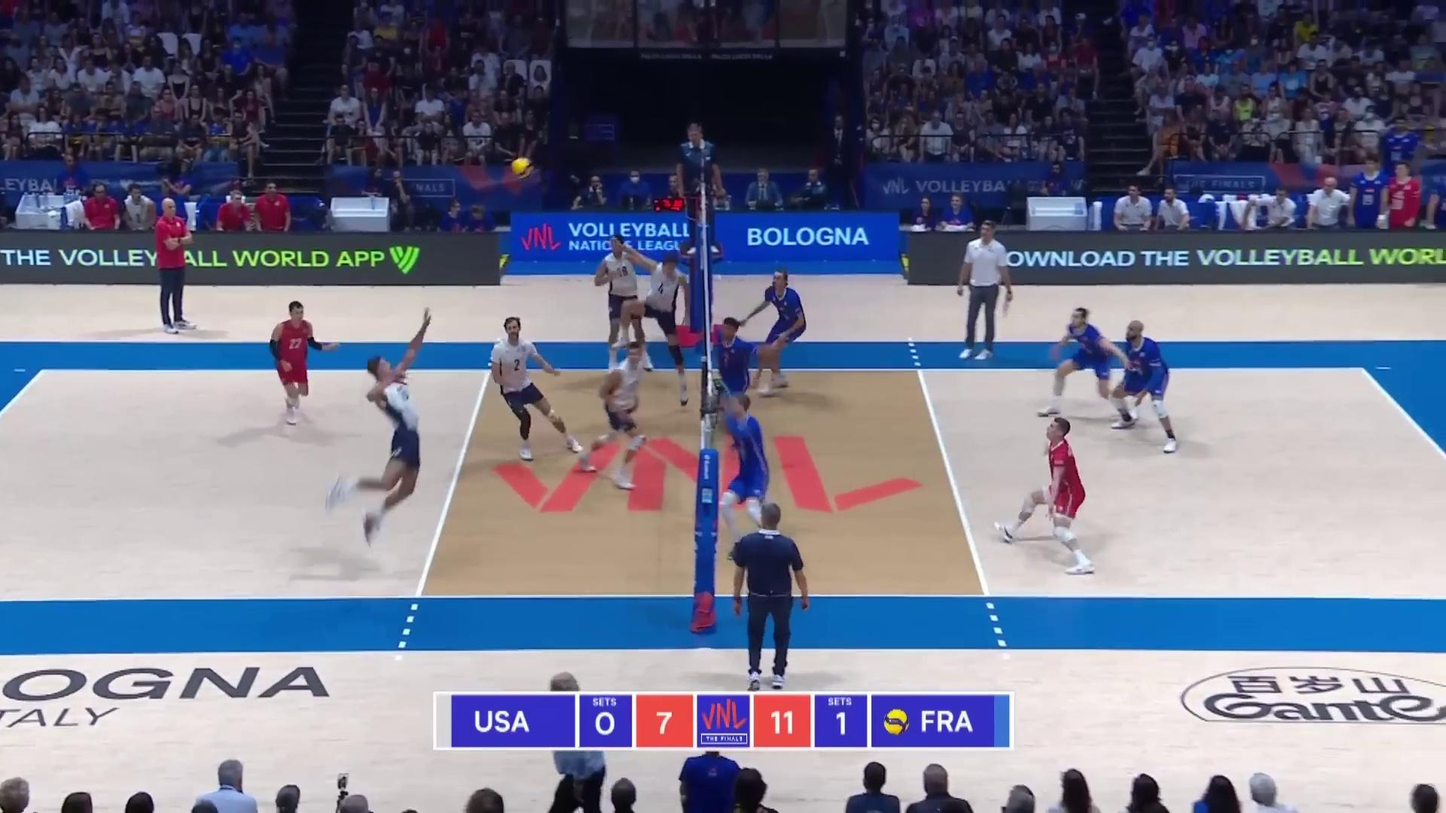player: (318, 353, 427, 548), (989, 416, 1103, 574), (486, 314, 582, 461), (616, 246, 695, 406), (1038, 305, 1128, 424), (581, 345, 650, 489), (721, 394, 782, 539), (596, 234, 659, 371), (1115, 319, 1180, 451), (268, 299, 329, 431), (745, 267, 806, 391), (714, 318, 765, 450)
refree: (733, 504, 814, 688), (679, 124, 722, 256)
